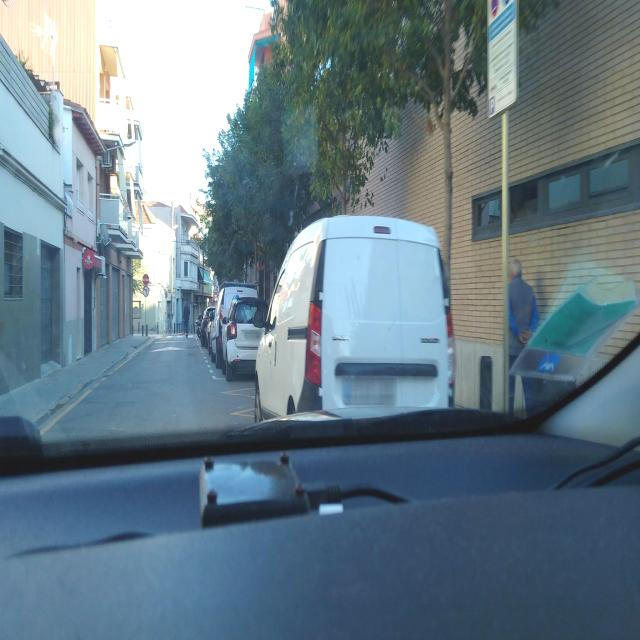car: (254, 213, 456, 423), (220, 294, 270, 382), (209, 282, 259, 366), (200, 304, 216, 348)
